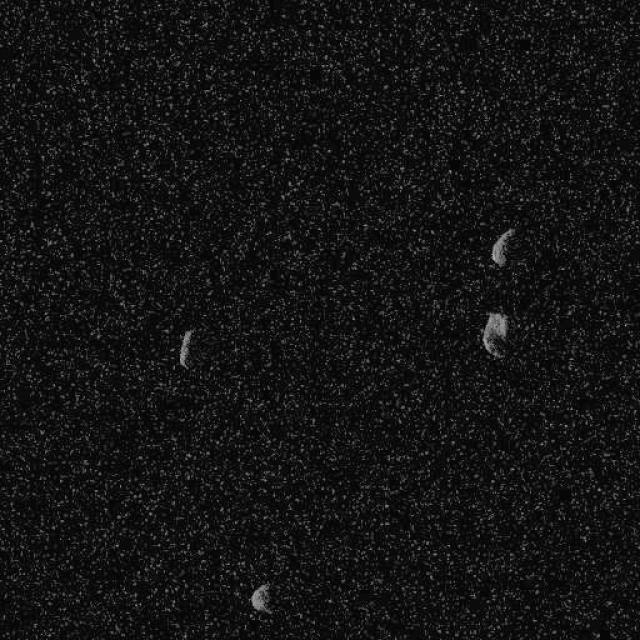D2: (481, 310, 509, 359), (488, 226, 514, 268), (248, 581, 272, 614), (178, 328, 194, 368)
